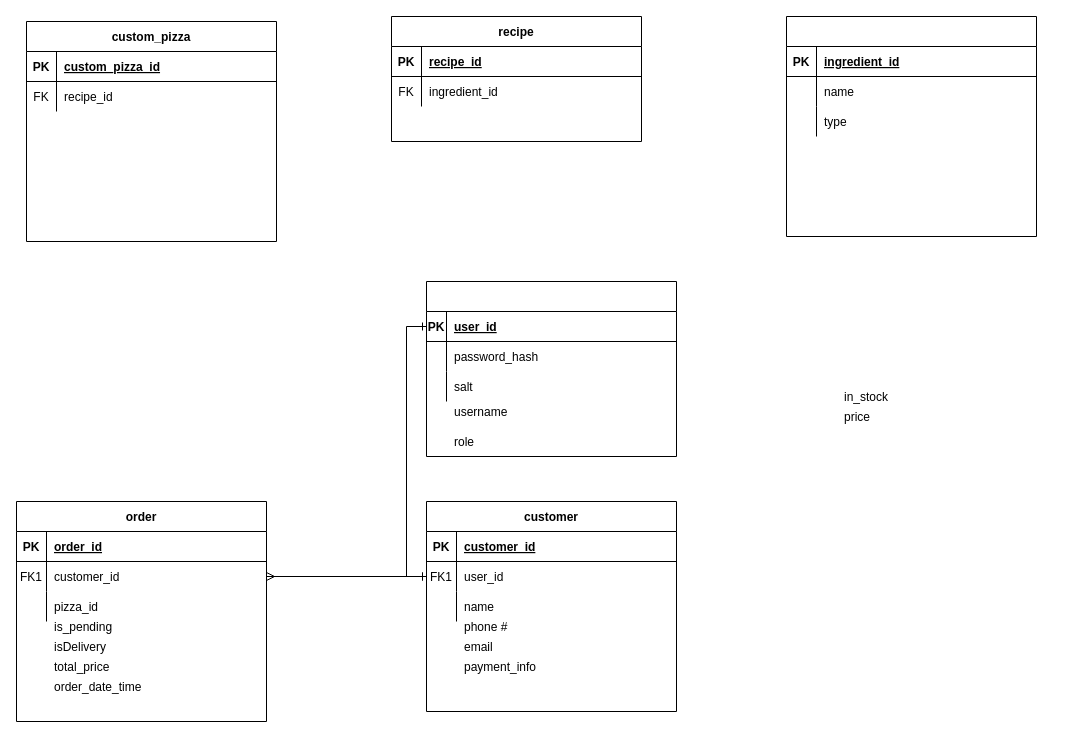
The diagram is 1073 pixels wide and 738 high, and some of its shapes have lost their labels. Each missing label, with the box of its shape:
ingredients: (786, 16, 1036, 236)
users: (426, 280, 676, 456)
